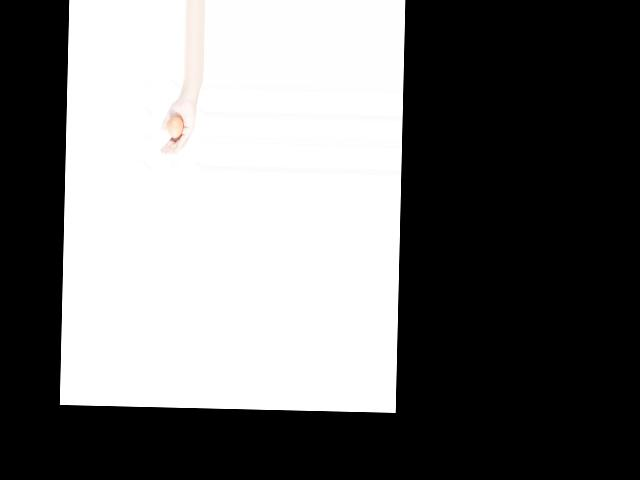egg: (167, 116, 183, 138)
